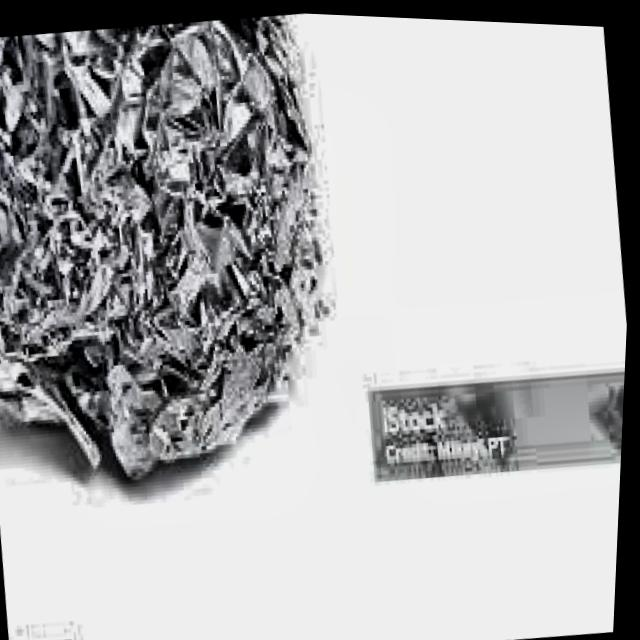Foil: (0, 0, 370, 522)
